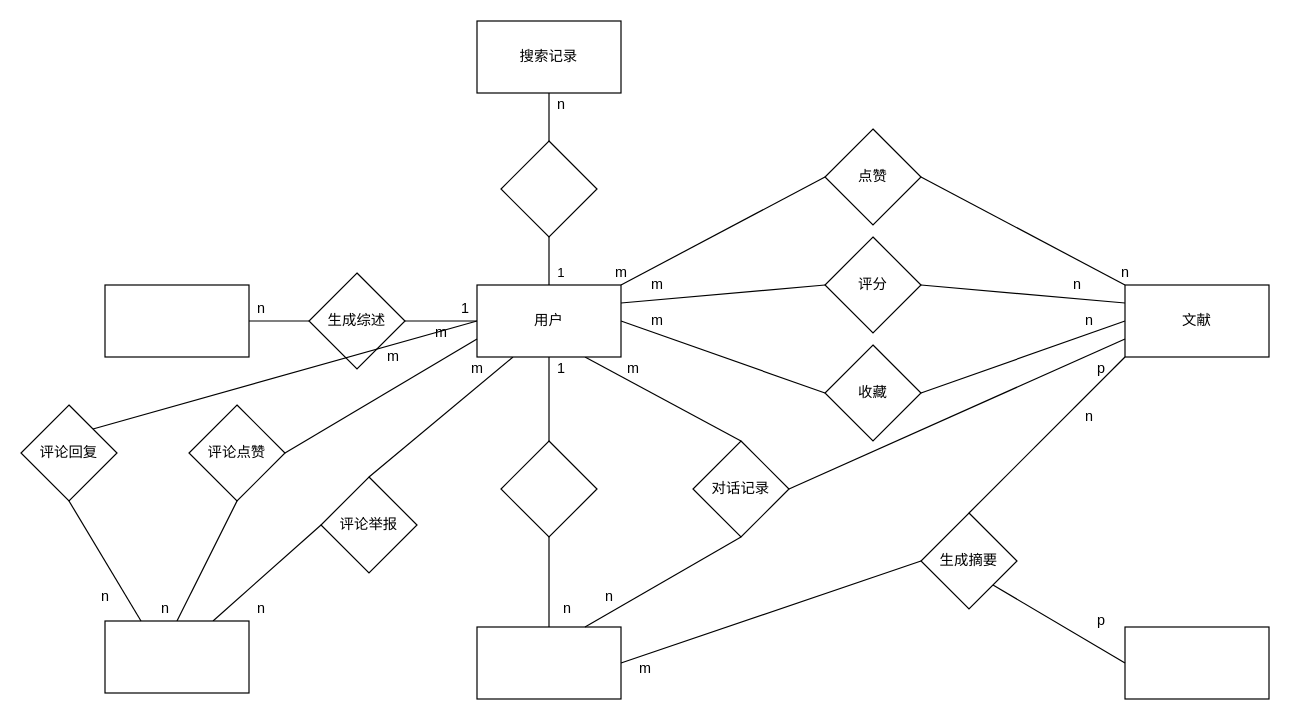
The diagram is 1290 pixels wide and 720 high, and some of its shapes have lost their labels. Here are the shapes that lost their labels. From the top down, the box of each, then its label:
(500, 140, 597, 237): 搜索文献
(104, 284, 249, 357): 综述报告记录
(500, 440, 597, 537): 上传
(104, 620, 249, 693): 评论
(476, 626, 621, 699): 本地文献
(1124, 626, 1269, 699): 单篇摘要
